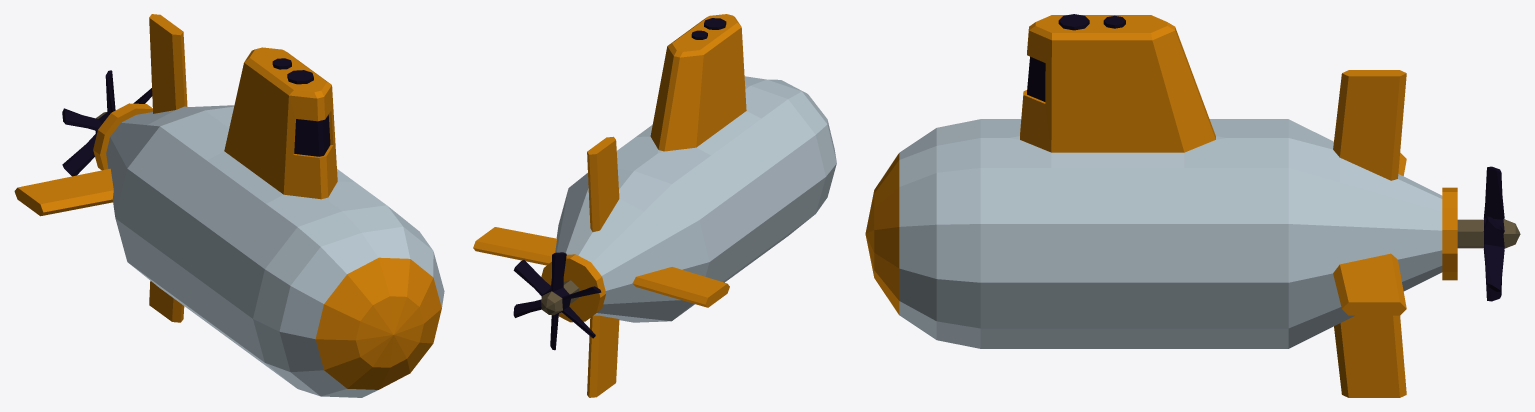
Rendered from submarine.glb.
The picture shows the model from 3 angles, left to right: view 1: azimuth 30°, elevation 25°; view 2: azimuth 150°, elevation 25°; view 3: azimuth 270°, elevation 25°; orthographic projection. The views are drawn at different scales.
Visible parts, largest first — view 1: submarine, propeller; view 2: submarine, propeller; view 3: submarine, propeller.
Part boxes in pixels (bbox=[...]): submarine: bbox=[14, 14, 444, 397]; propeller: bbox=[62, 70, 152, 176]; submarine: bbox=[473, 14, 836, 397]; propeller: bbox=[513, 252, 601, 350]; submarine: bbox=[865, 14, 1457, 397]; propeller: bbox=[1457, 166, 1520, 301].
Bounding box in the file's own units: 4.61 × 5.37 × 8.52.
